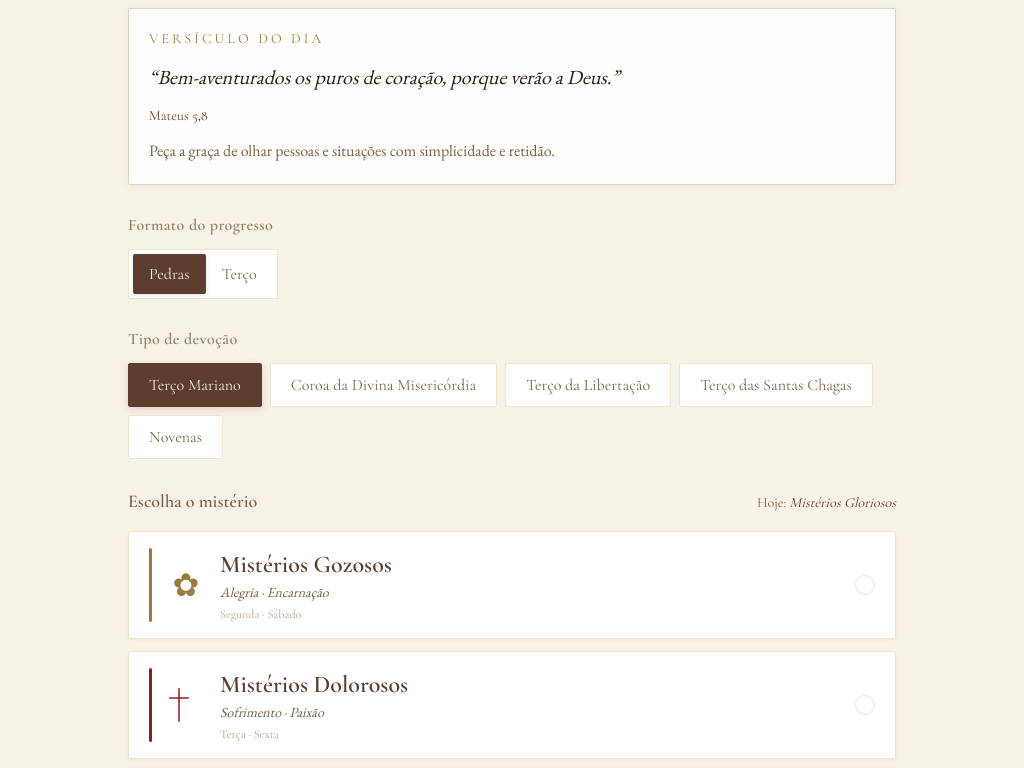
Test: Home prayer flow › only starts the terço after the user clicks Começar
The width and height of the screenshot is (1024, 768).
(page scrolled)
expect the text "Versículo do dia" is shown: met, box 149,30 -> 324,47
Step 1. Click the button "Terço da Libertação" → click(588, 385), box 505,363 -> 671,407
(page scrolled)
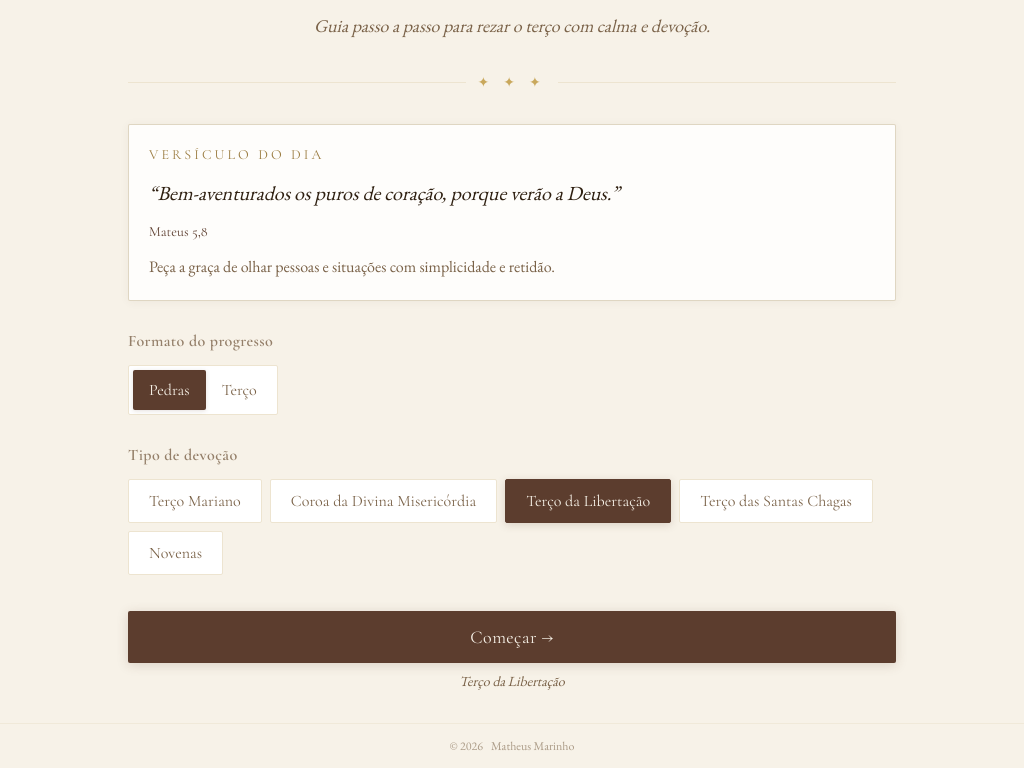
expect the button "Terço da Libertação" is pressed: met, box 505,479 -> 671,523
Step 2. Click the button "Terço Mariano" → click(195, 501), box 128,479 -> 262,523
(page scrolled)
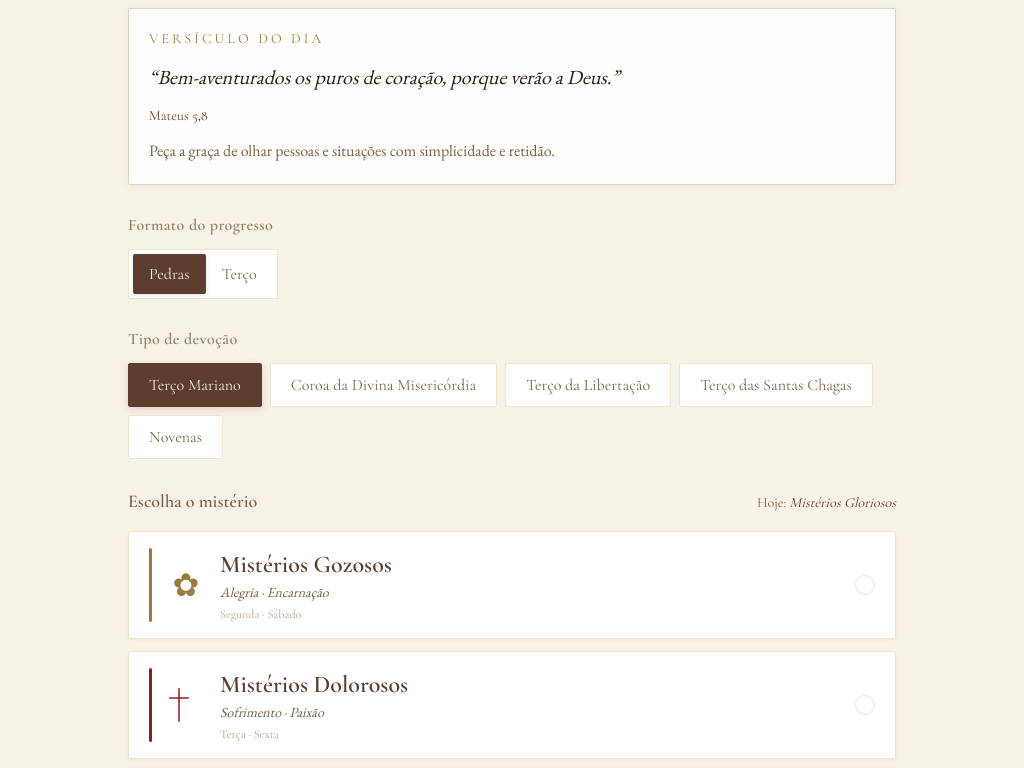
Step 3. Click the button "Mistérios Dolorosos Sofrimento · Paixão Terça · Sexta" → click(314, 684), box 128,651 -> 896,759
(page scrolled)
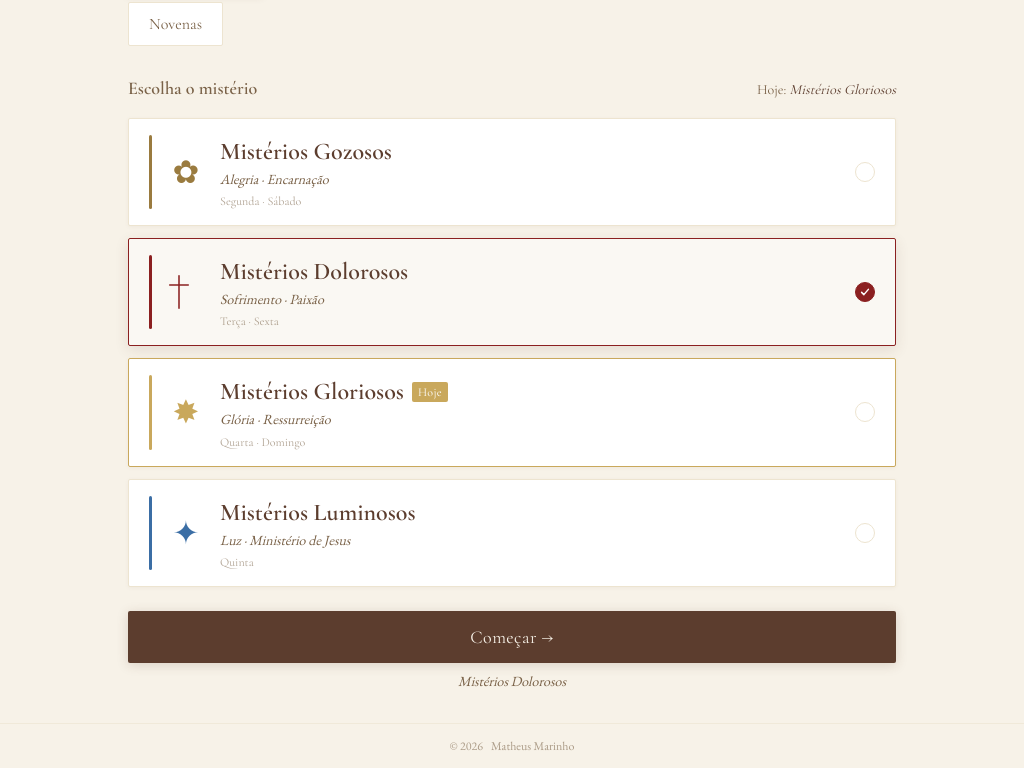
expect the text "Credo" is not shown: met
expect the button "Mistérios Dolorosos Sofrimento · Paixão Terça · Sexta" is pressed: met, box 128,238 -> 896,346
Step 4. Click the button "Começar →" → click(512, 637), box 128,611 -> 896,663
(page scrolled)
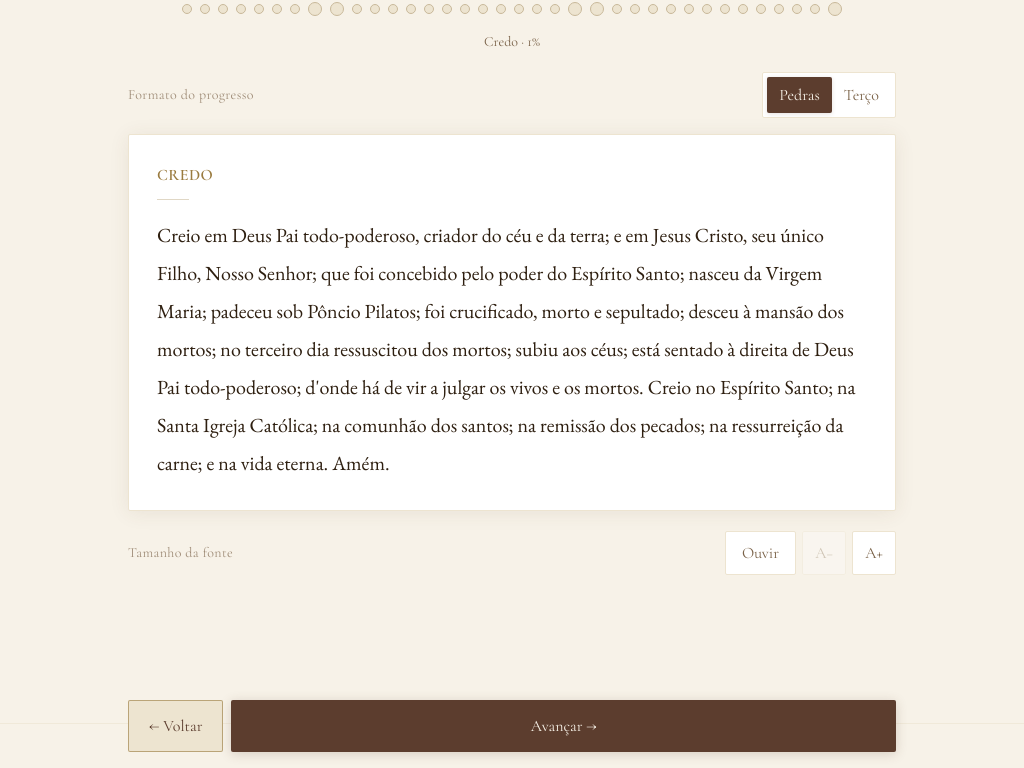
expect the text "Credo" is shown: met, box 157,165 -> 213,185
